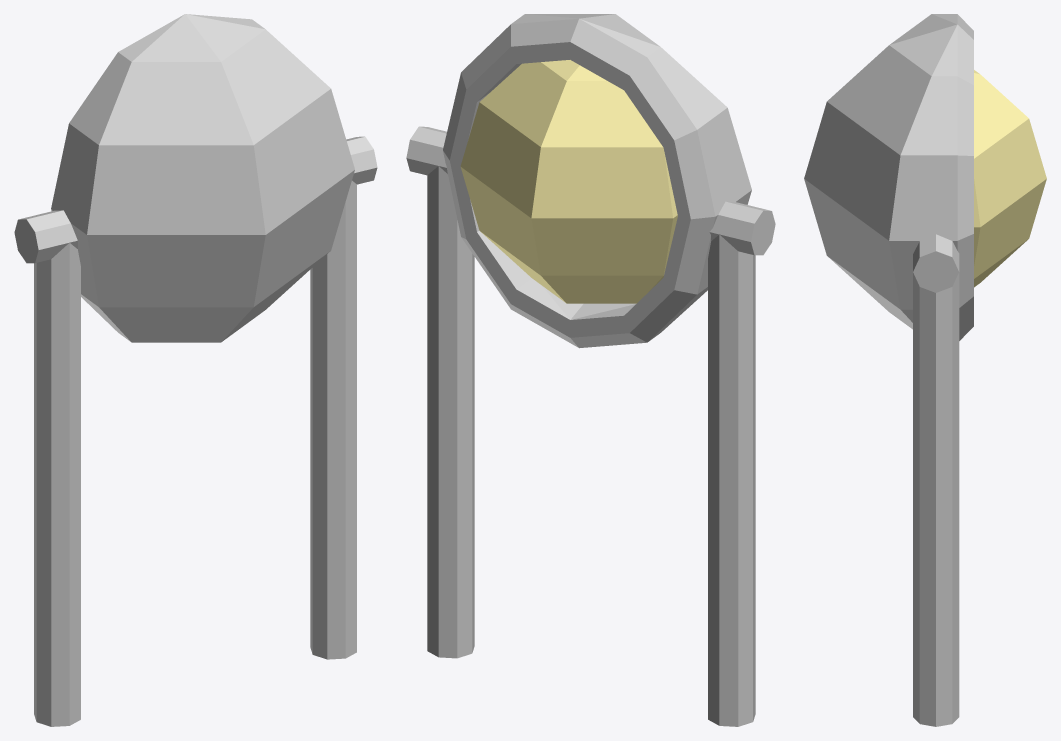
File: TrainSpotlight.glb
The picture shows the model from 3 angles, left to right: view 1: azimuth 30°, elevation 25°; view 2: azimuth 150°, elevation 25°; view 3: azimuth 270°, elevation 25°; orthographic projection. The views are drawn at different scales.
Parts seen in each view (by area): view 1: Cylinder.013, Cylinder.011, Cylinder.012; view 2: Cylinder.013, Sphere.001, Cylinder.011, Cylinder.012; view 3: Cylinder.013, Cylinder.012, Sphere.001.
Boxes of the visible parts, box(x1,y1,x2,y2) form: Cylinder.013: box(14, 14, 377, 342); Cylinder.011: box(34, 243, 80, 726); Cylinder.012: box(310, 180, 356, 659); Cylinder.013: box(406, 14, 775, 348); Sphere.001: box(460, 60, 677, 303); Cylinder.011: box(708, 235, 755, 726); Cylinder.012: box(427, 166, 474, 658); Cylinder.013: box(804, 14, 973, 340); Cylinder.012: box(913, 272, 959, 726); Sphere.001: box(974, 70, 1046, 287).
Bounding box in the file's own units: 1.47 × 2.74 × 0.9585.
